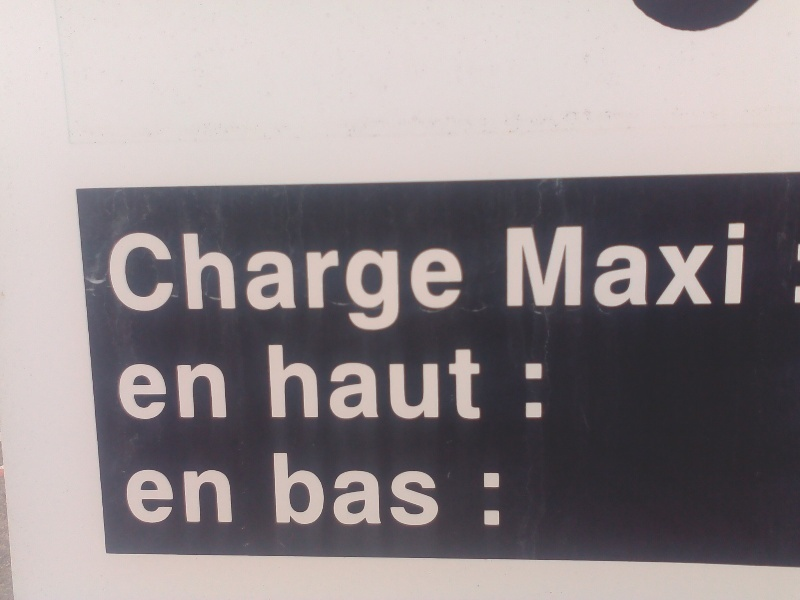text: (113, 229, 128, 332), (129, 229, 144, 332), (145, 229, 160, 332), (161, 229, 176, 332), (177, 229, 192, 332), (193, 229, 208, 332), (209, 229, 224, 332), (225, 229, 240, 332), (241, 229, 256, 332), (257, 229, 272, 332), (273, 229, 288, 332), (289, 229, 304, 332), (305, 229, 320, 332), (321, 229, 336, 332), (337, 229, 352, 332), (353, 229, 368, 332), (369, 229, 384, 332), (385, 229, 400, 332), (401, 229, 416, 332), (417, 229, 432, 332), (433, 229, 448, 332), (449, 229, 464, 332), (513, 220, 528, 311), (529, 220, 544, 311), (545, 220, 560, 311), (561, 220, 576, 311), (577, 220, 592, 311), (593, 220, 608, 311), (609, 220, 624, 311), (625, 220, 640, 311), (641, 220, 656, 311), (657, 220, 672, 311), (673, 220, 688, 311), (689, 220, 704, 311), (705, 220, 720, 311), (721, 220, 736, 311), (273, 342, 288, 423), (289, 342, 304, 423), (305, 342, 320, 423), (321, 342, 336, 423), (337, 342, 352, 423), (353, 342, 368, 423), (369, 342, 384, 423), (385, 342, 400, 423), (401, 342, 416, 423), (417, 342, 432, 423), (433, 342, 448, 423), (449, 342, 464, 423), (465, 342, 480, 423), (273, 449, 288, 530), (289, 449, 304, 530), (305, 449, 320, 530), (321, 449, 336, 530), (337, 449, 352, 530), (353, 449, 368, 530), (369, 449, 384, 530), (385, 449, 400, 530), (401, 449, 416, 530), (417, 449, 432, 530), (529, 360, 545, 421), (129, 361, 144, 422), (145, 361, 160, 422), (161, 361, 176, 422), (177, 361, 192, 422), (193, 361, 208, 422), (209, 361, 224, 422), (737, 220, 747, 311), (129, 466, 144, 525), (145, 466, 160, 525), (161, 466, 176, 525), (177, 466, 192, 525), (193, 466, 208, 525), (209, 466, 224, 525), (481, 470, 496, 528), (116, 361, 128, 422), (504, 220, 512, 311), (225, 466, 236, 525), (433, 449, 441, 530), (106, 229, 112, 332), (266, 342, 272, 423), (225, 361, 231, 422), (522, 360, 528, 421), (497, 470, 502, 528), (126, 466, 128, 525), (481, 342, 482, 423)
